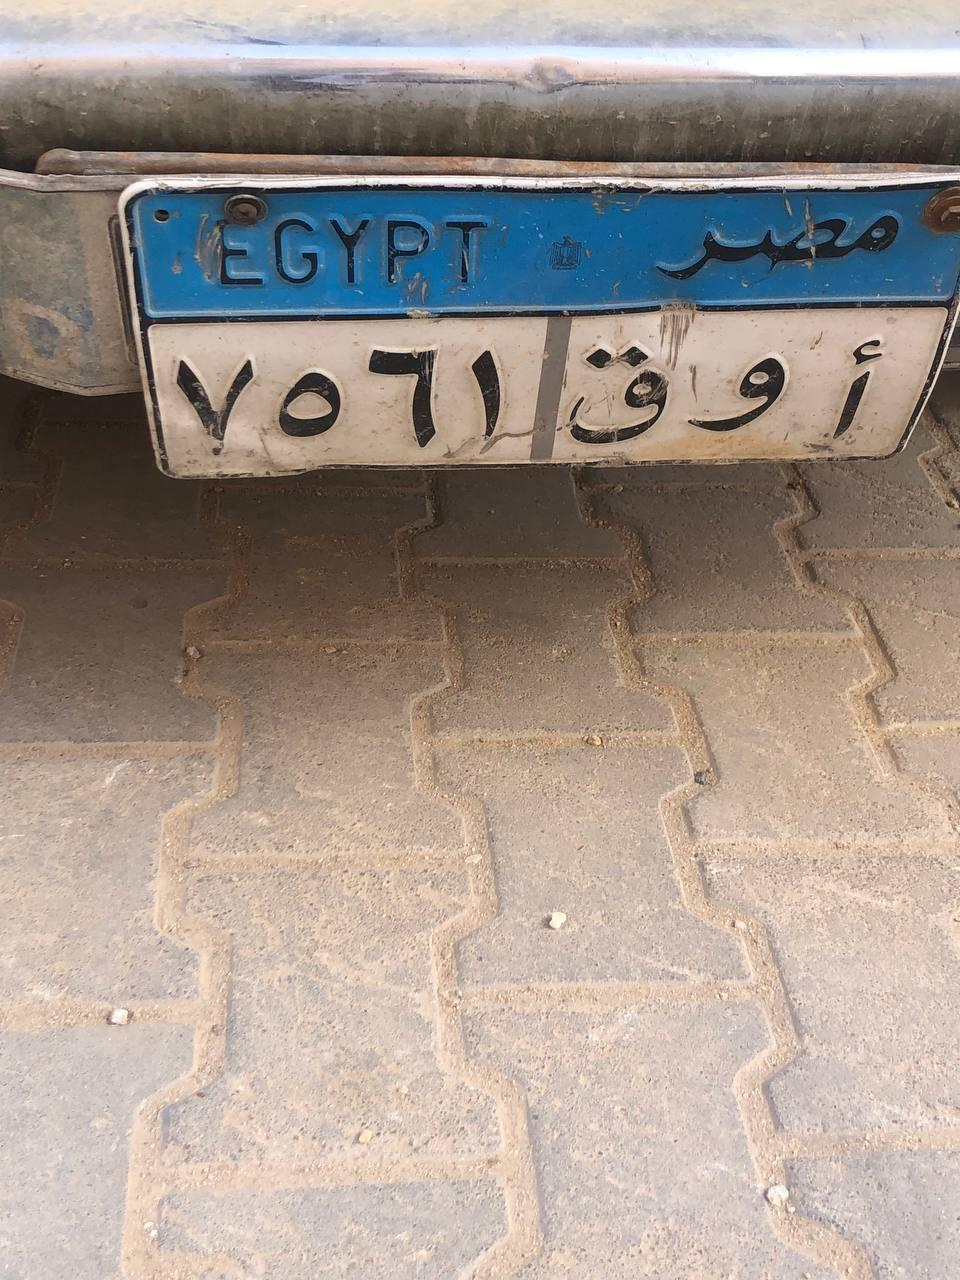1: (468, 347, 507, 448)
5: (278, 370, 342, 446)
6: (366, 342, 440, 449)
7: (168, 352, 259, 463)
License Plate: (112, 165, 958, 482)
Q: (568, 344, 676, 446)
Wow: (694, 356, 791, 440)
alef: (840, 340, 882, 448)
